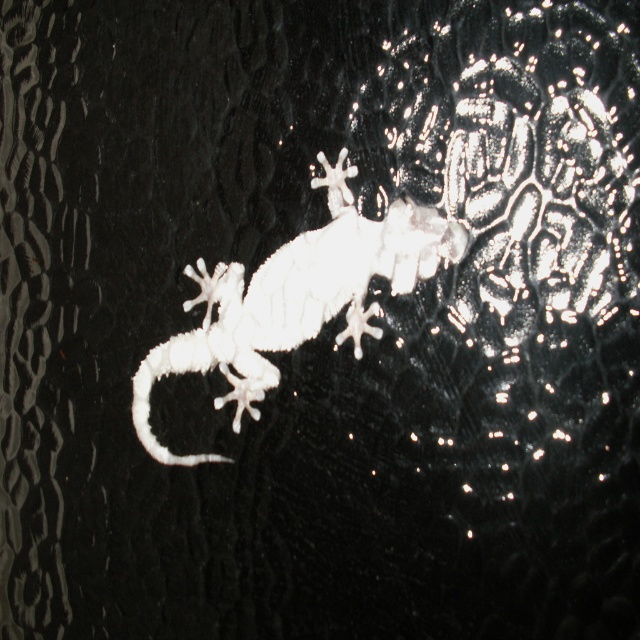Lizard: (144, 129, 480, 458)
